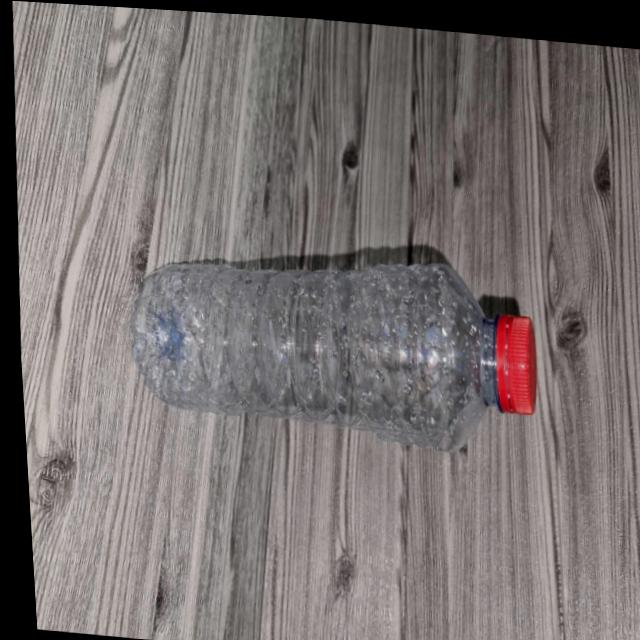anorganik: (124, 198, 552, 468)
